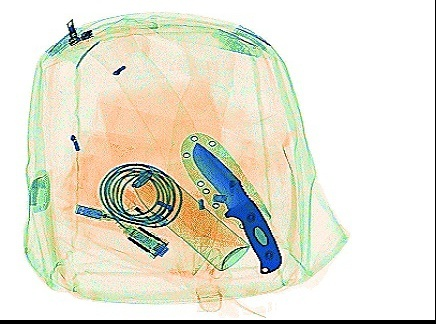knife: (179, 131, 281, 275)
lighter: (118, 186, 166, 228)
pressure: (129, 167, 249, 271)
